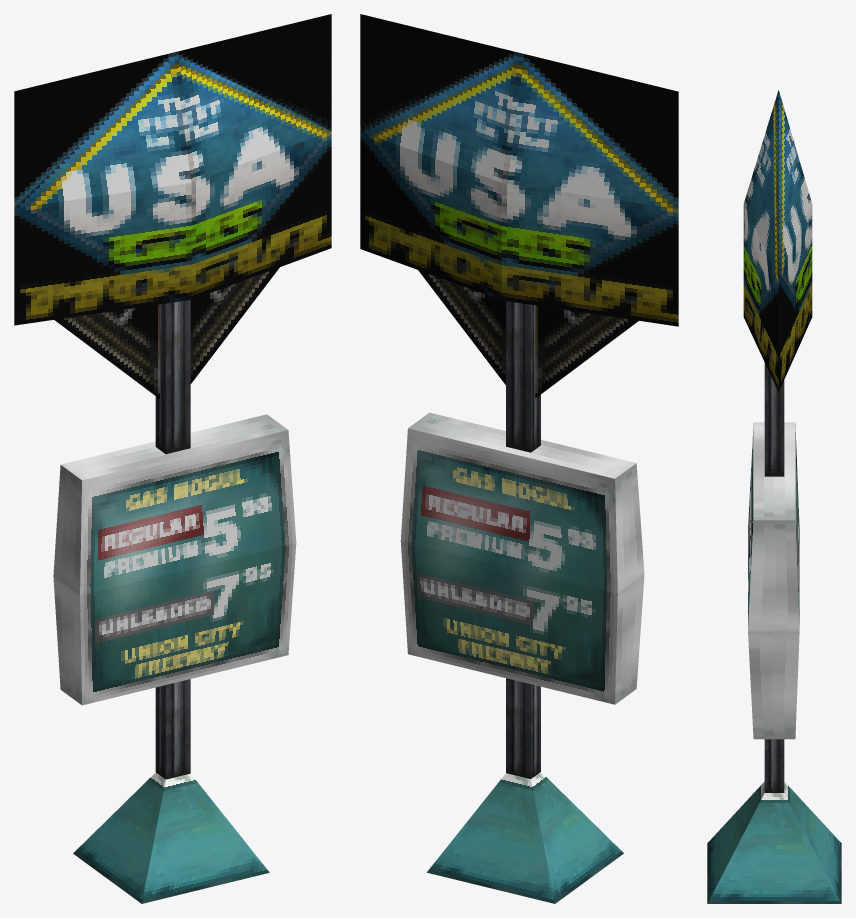
The picture shows the model from 3 angles, left to right: view 1: azimuth 30°, elevation 25°; view 2: azimuth 150°, elevation 25°; view 3: azimuth 270°, elevation 25°; orthographic projection. The views are drawn at different scales.
Visible parts, largest first — view 1: prim008-gasign.001; view 2: prim008-gasign.001; view 3: prim008-gasign.001.
Part boxes in pixels (box(x1,y1,x2,y2)): prim008-gasign.001: box(14, 14, 331, 903); prim008-gasign.001: box(360, 14, 678, 903); prim008-gasign.001: box(707, 90, 841, 903).
Size of the model in its own units: 255 by 621 by 96.
Materials: 5 (5 with a texture image).
